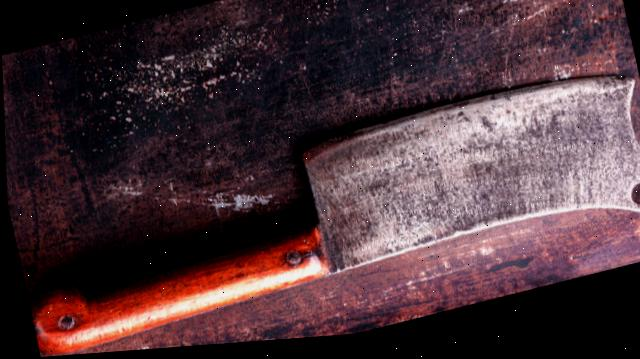long knife: (2, 48, 640, 359)
